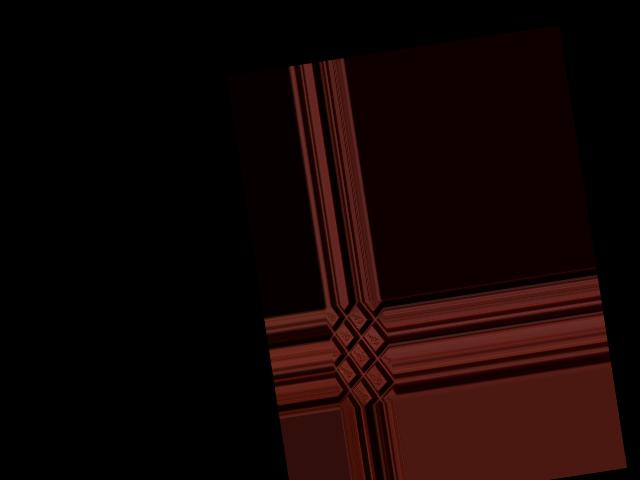chocolate: (327, 301, 398, 409)
